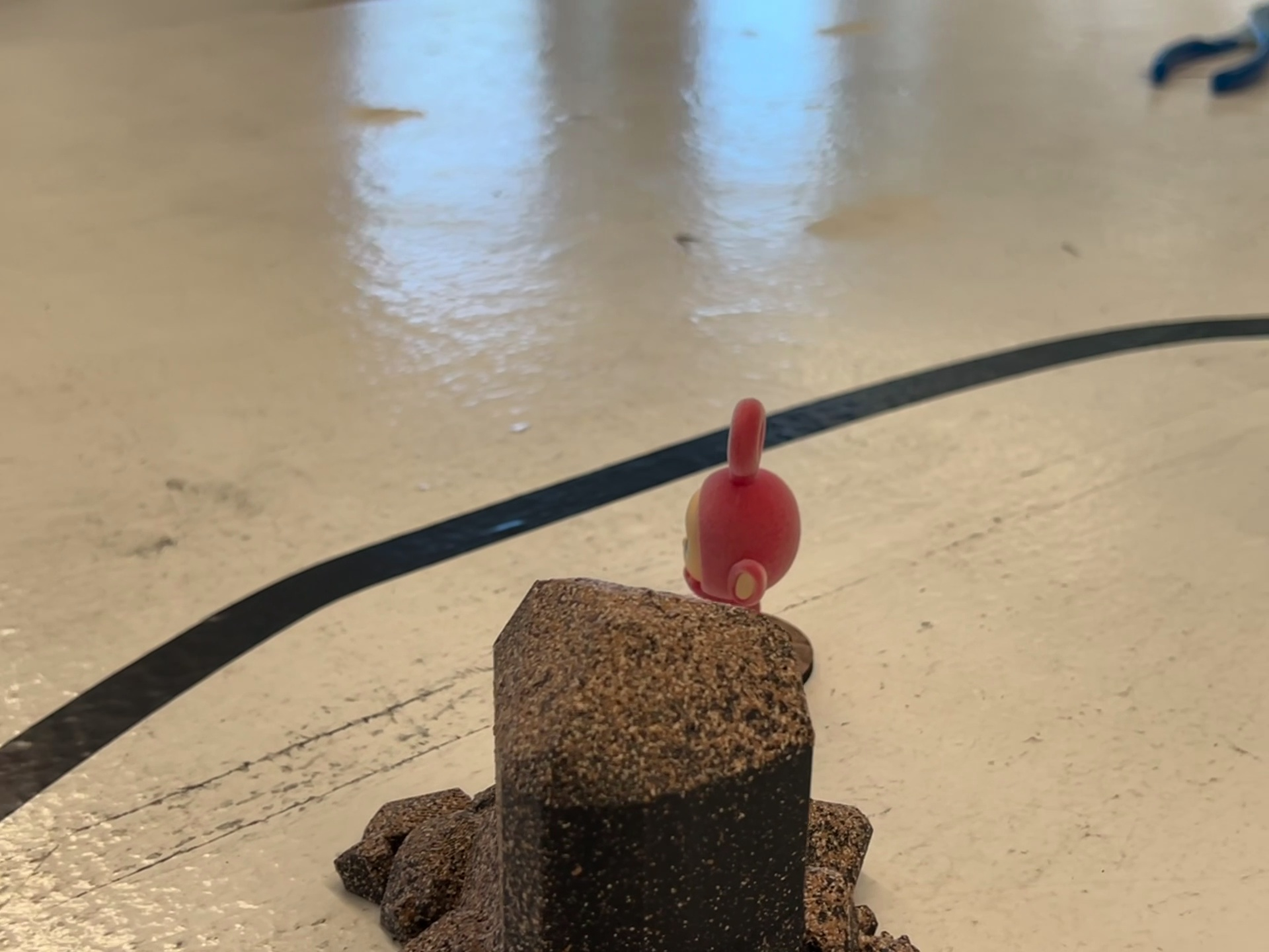teletubby: (683, 399, 800, 612)
